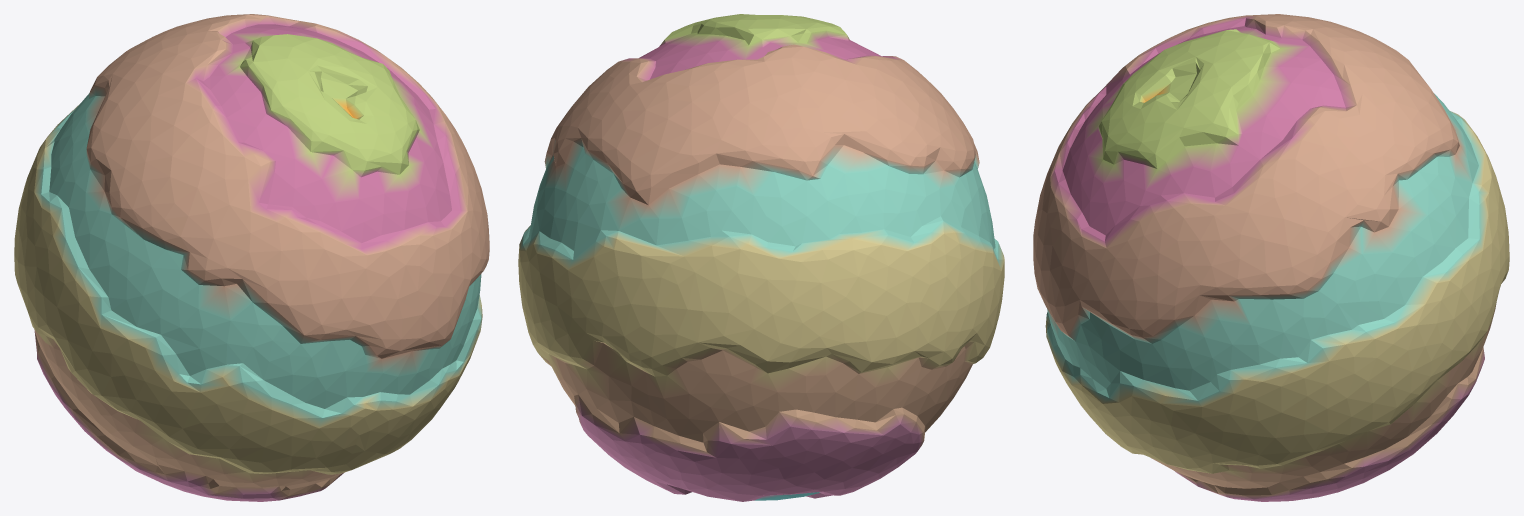
The picture shows the model from 3 angles, left to right: view 1: azimuth 30°, elevation 25°; view 2: azimuth 150°, elevation 25°; view 3: azimuth 270°, elevation 25°; orthographic projection.
Parts seen in each view (by area): view 1: 8, 5, 7, 6; view 2: 8, 5, 6, 7; view 3: 8, 5, 7, 6.
Boxes of the visible parts, x1,y1,x2,y2 form: 8: [14, 14, 489, 474]; 5: [34, 24, 481, 495]; 7: [240, 34, 419, 174]; 6: [34, 331, 343, 501]; 8: [518, 44, 1004, 376]; 5: [523, 26, 998, 451]; 6: [575, 395, 923, 501]; 7: [665, 14, 846, 500]; 8: [1033, 14, 1509, 473]; 5: [1046, 18, 1496, 495]; 7: [1099, 29, 1279, 168]; 6: [1175, 347, 1484, 501].
Bounding box in the file's own units: 5046 × 5193 × 5055.
